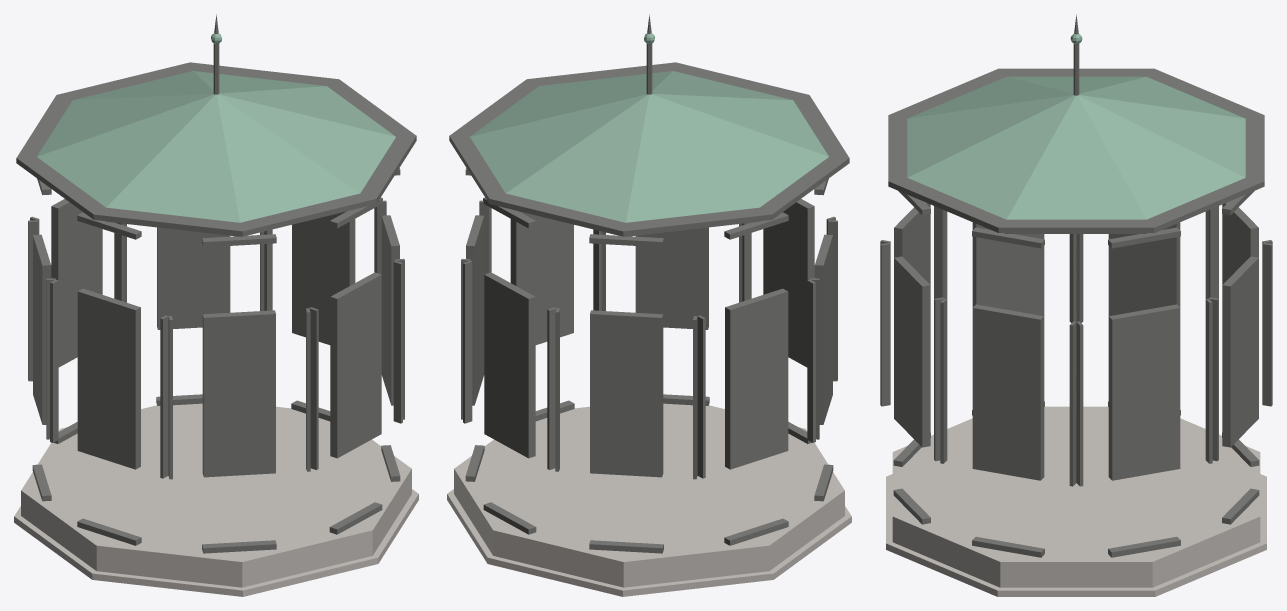
Rendered from cp_columbus_kiosk.glb.
3 renders of one model, left to right at view 1: azimuth 30°, elevation 25°; view 2: azimuth 150°, elevation 25°; view 3: azimuth 270°, elevation 25°, orthographic.
Parts seen in each view (by area): view 1: ColumbusCircleKiosk; view 2: ColumbusCircleKiosk; view 3: ColumbusCircleKiosk.
Boxes of the visible parts, left/top/right/bottom form: ColumbusCircleKiosk: left=14, top=14, right=418, bottom=596; ColumbusCircleKiosk: left=447, top=14, right=851, bottom=596; ColumbusCircleKiosk: left=880, top=14, right=1272, bottom=596.
Size of the model in its own units: 3.31 by 4.68 by 3.31.
